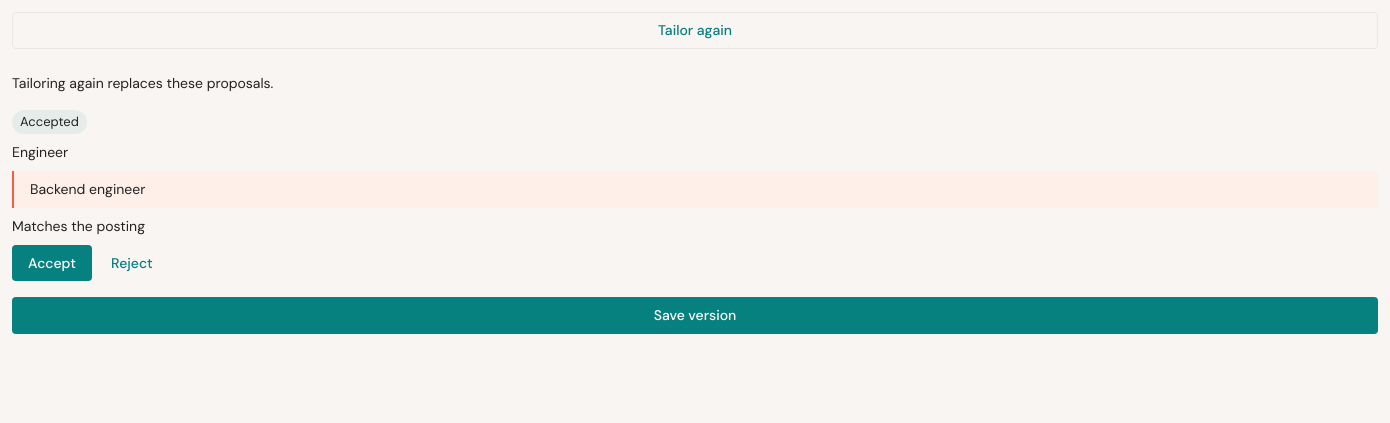
Test case: CvPanel › should explain when a save loses the race
Click the button "Save version" at (695, 315), box [12,297,1378,334]
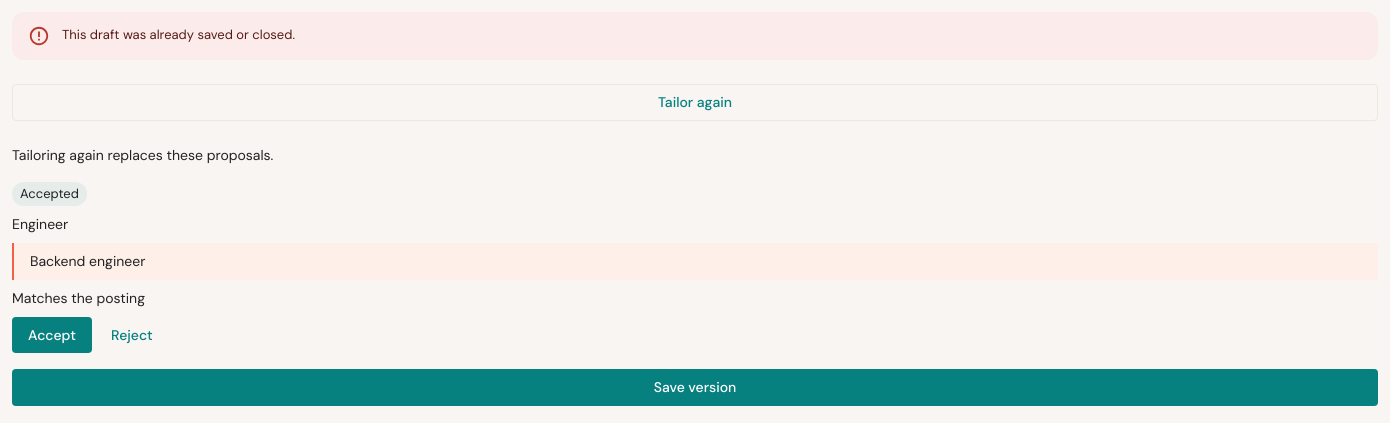
Result: the text "This draft was already saved or closed." is shown at [62,26,295,43]
